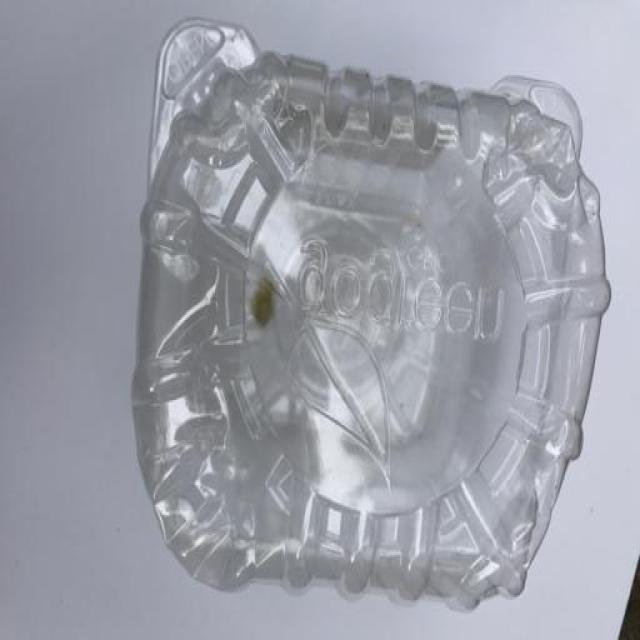Plastic: (129, 18, 610, 615)
